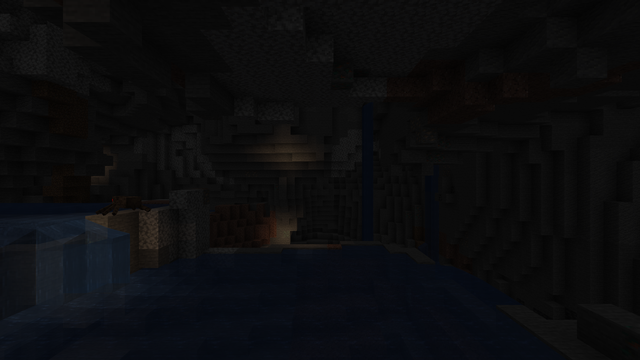araignees: (97, 194, 147, 215)
